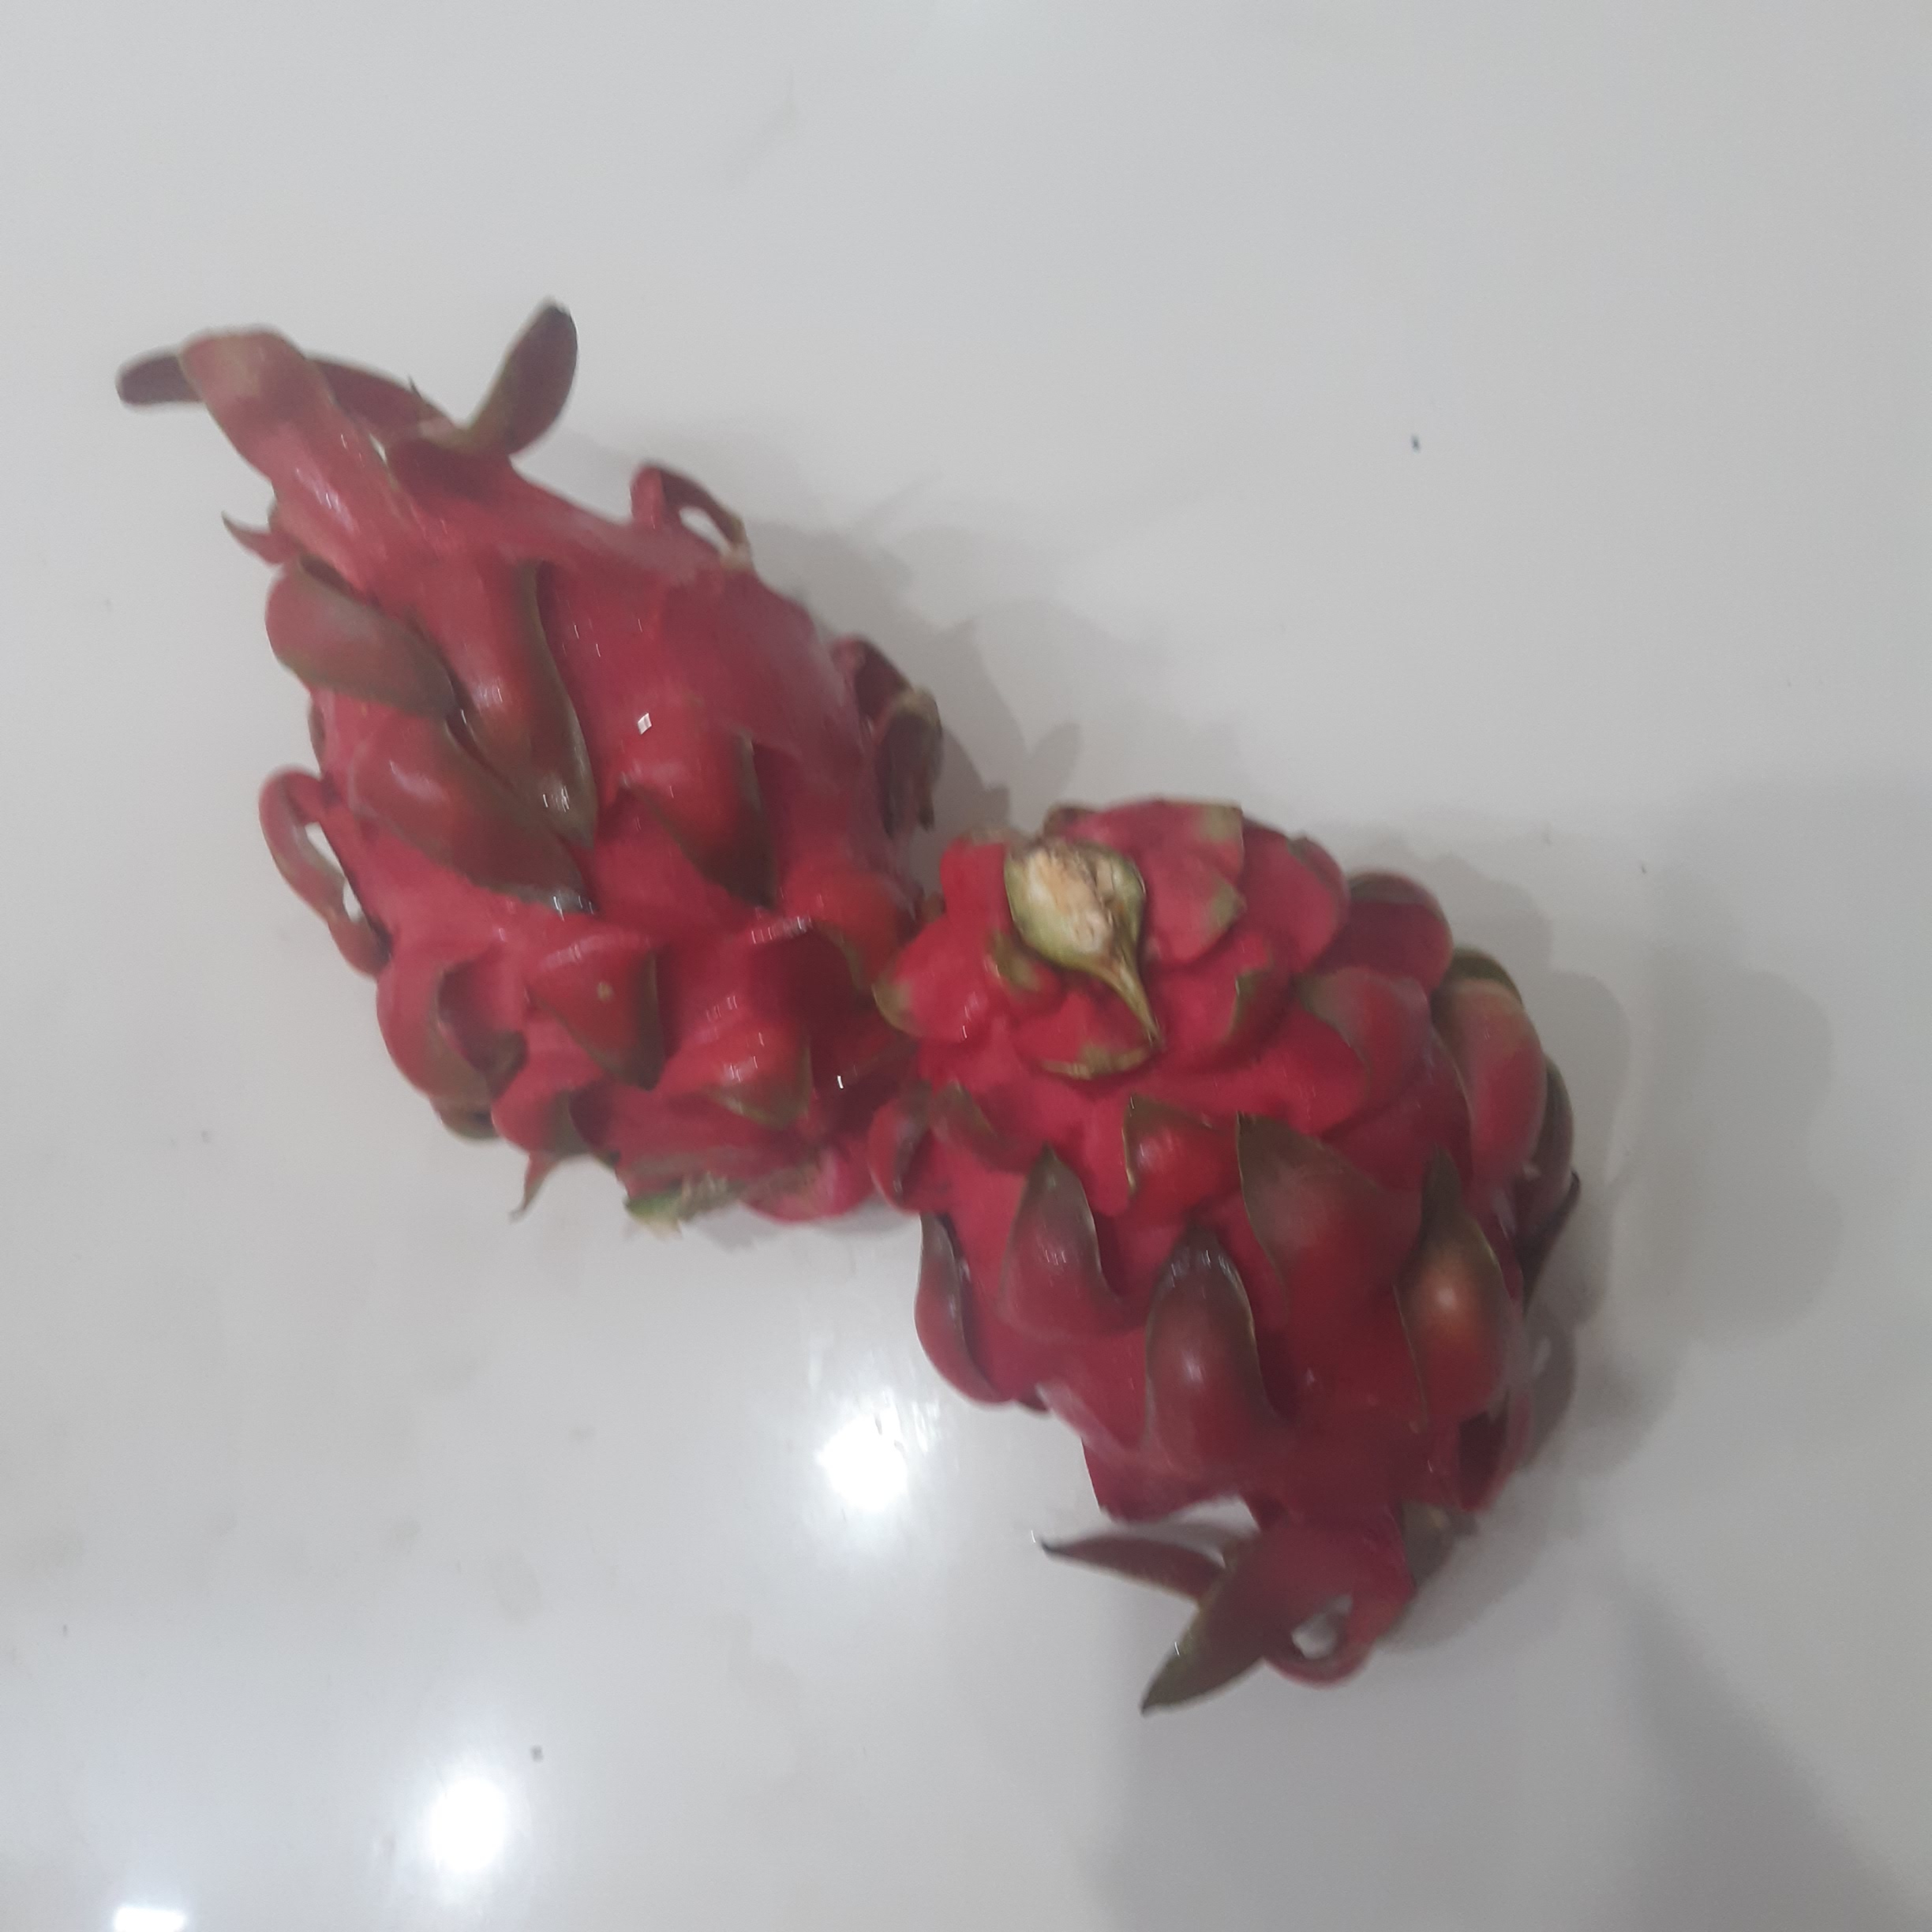Thanh long: (243, 476, 935, 1252), (906, 813, 1577, 1525)
